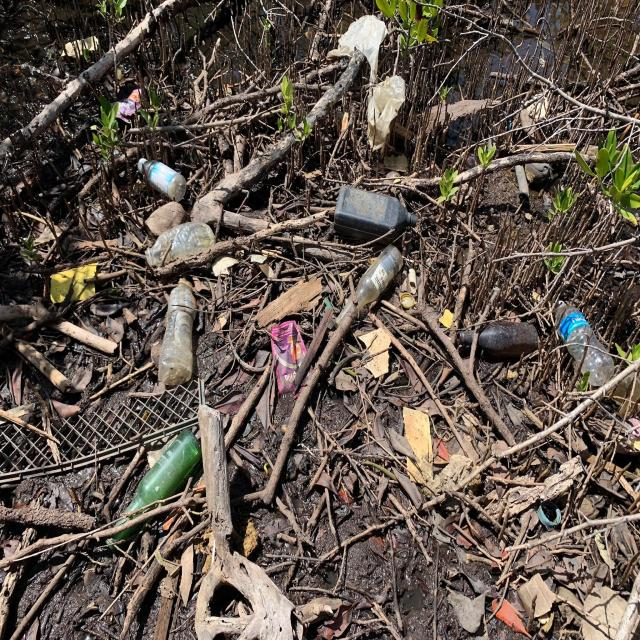litter: (110, 432, 199, 542), (336, 250, 403, 330), (555, 302, 614, 387), (333, 185, 415, 244), (159, 279, 195, 383), (143, 221, 213, 264), (270, 322, 312, 392), (459, 323, 536, 356), (402, 409, 433, 481), (45, 264, 96, 307), (140, 159, 184, 200), (116, 89, 140, 120), (61, 36, 99, 55), (537, 498, 559, 527), (438, 308, 456, 328), (399, 291, 414, 307)
